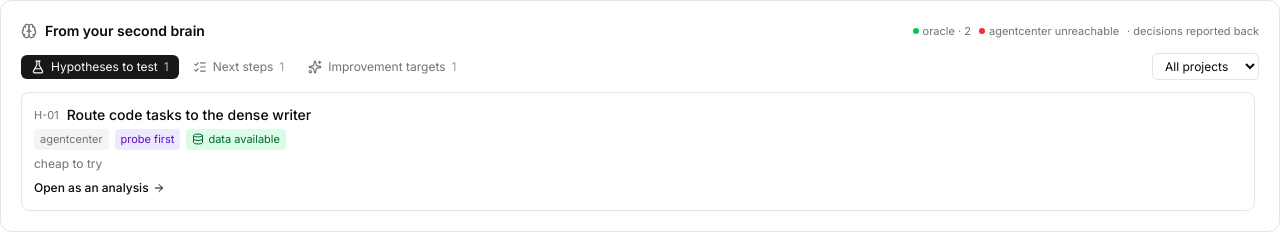
Scenario: SecondBrainPanel › switches to next steps and filters by project
The image size is (1280, 249).
Click the tab "Next steps 1" at (238, 66), box [183,54,294,78]
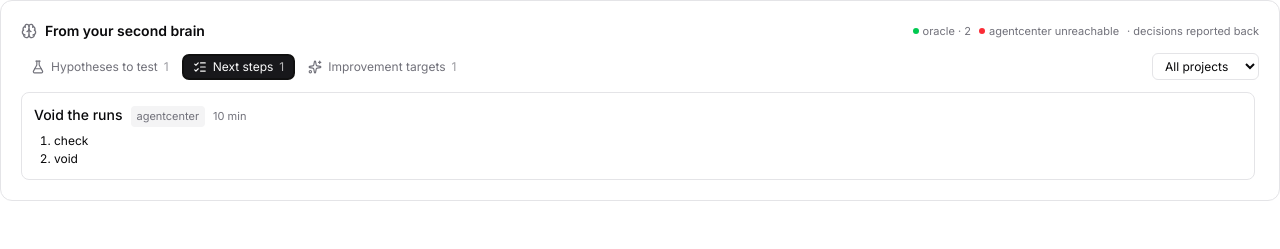
Check: the list item "void" is shown, box [54,150,78,166]
Click the tab "Improvement targets 1" at (382, 66), box [298,54,466,78]
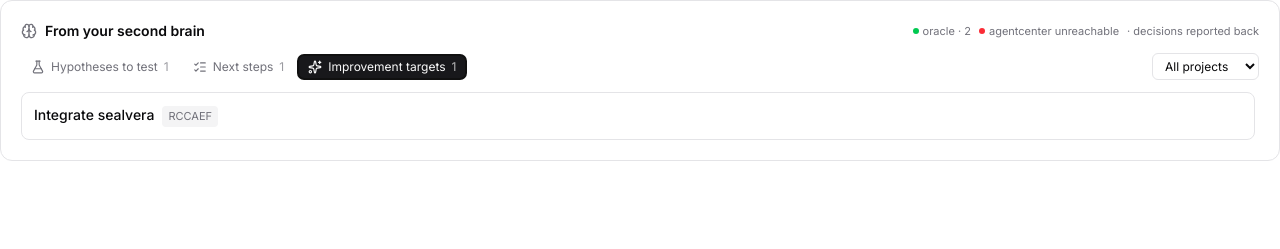
Check: the text "Integrate sealvera" is shown, box [34,105,154,125]
Select "agentcenter" in the dropdown named "project" at (1206, 66), box [1152,53,1259,80]
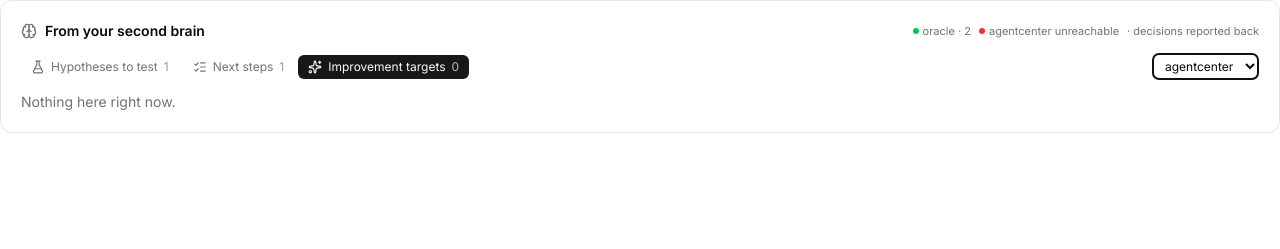
Check: the text "Integrate sealvera" is gone
